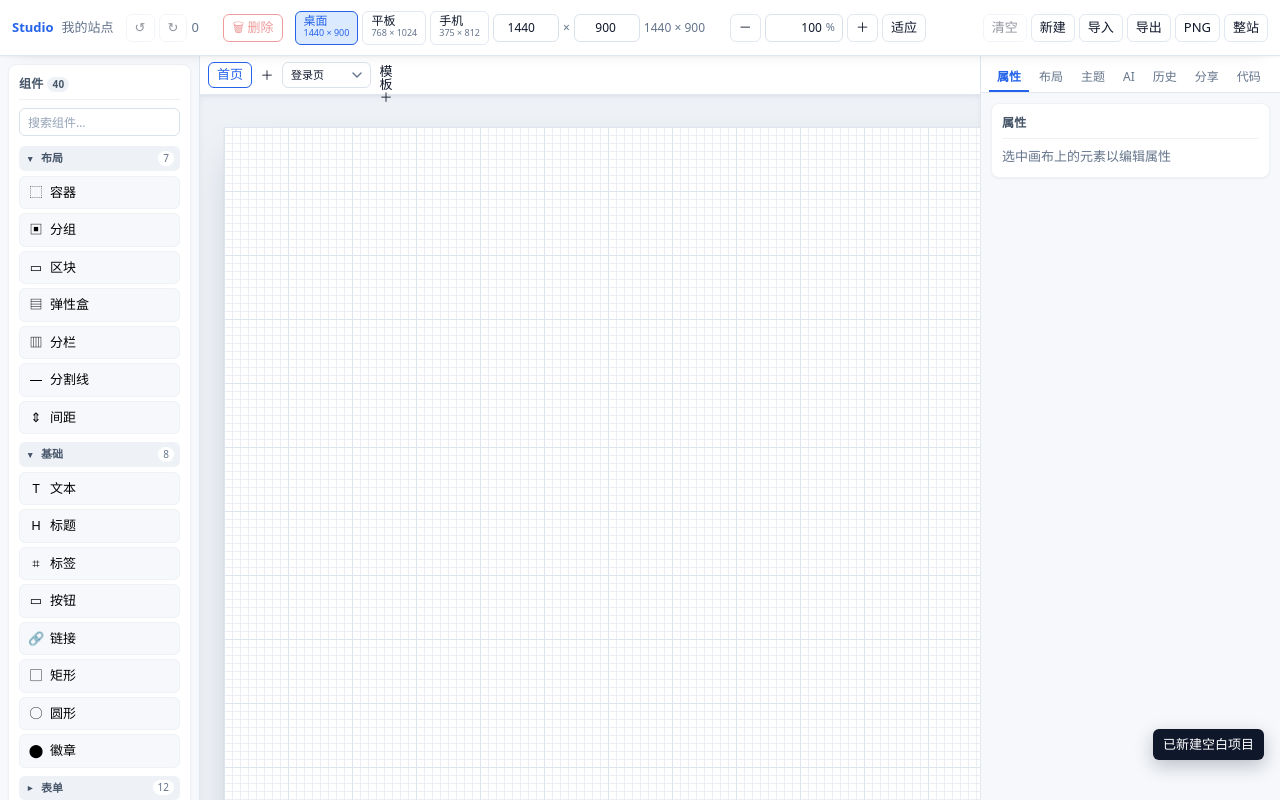
Scenario: M1 编辑器：画布交互与面板 › 视口高度可以单独改：画布高度、文档设计高度、尺寸标签一起变
Replace the text in the number field named "页面高度（200–10000）" with "720" at {"x": 607, "y": 28}, box [574,14,640,42]
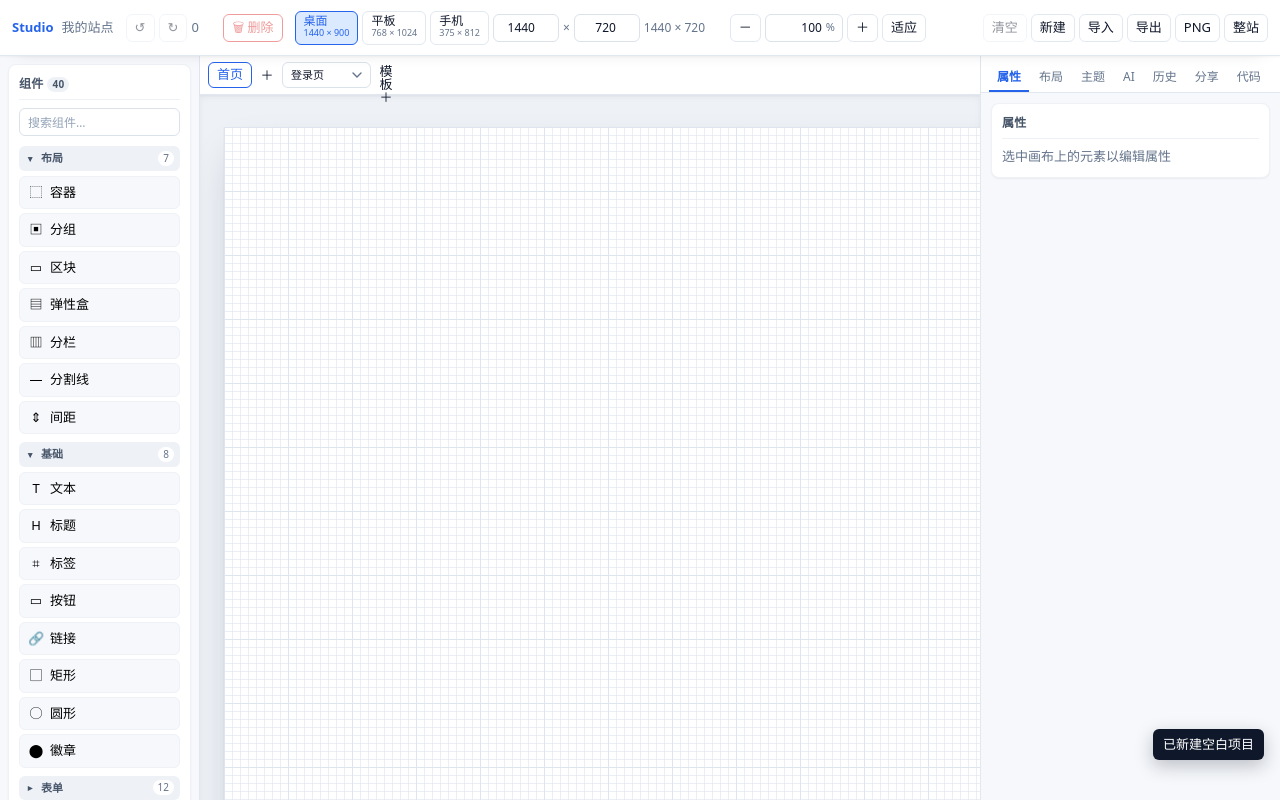
Expected: the text "1440 × 720" is shown, [644,18,705,36]
